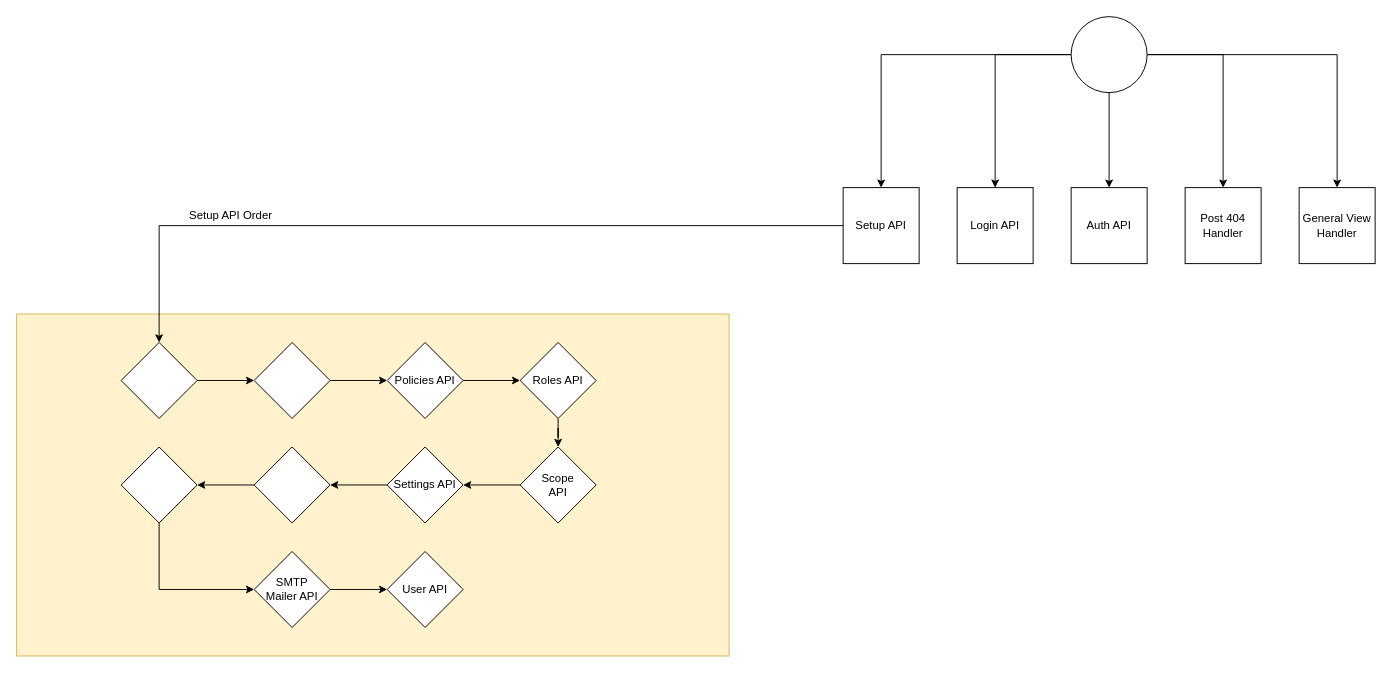
The diagram is 1392 pixels wide and 673 high, and some of its shapes have lost their labels. Here are the shapes that lost their labels. From the top down, the centre of each, then its label:
the point at 1108,54: Zyndex Server
the point at 158,380: Credentials API
the point at 291,380: Frontend API
the point at 158,484: SMTP Provider API
the point at 291,484: Token API
